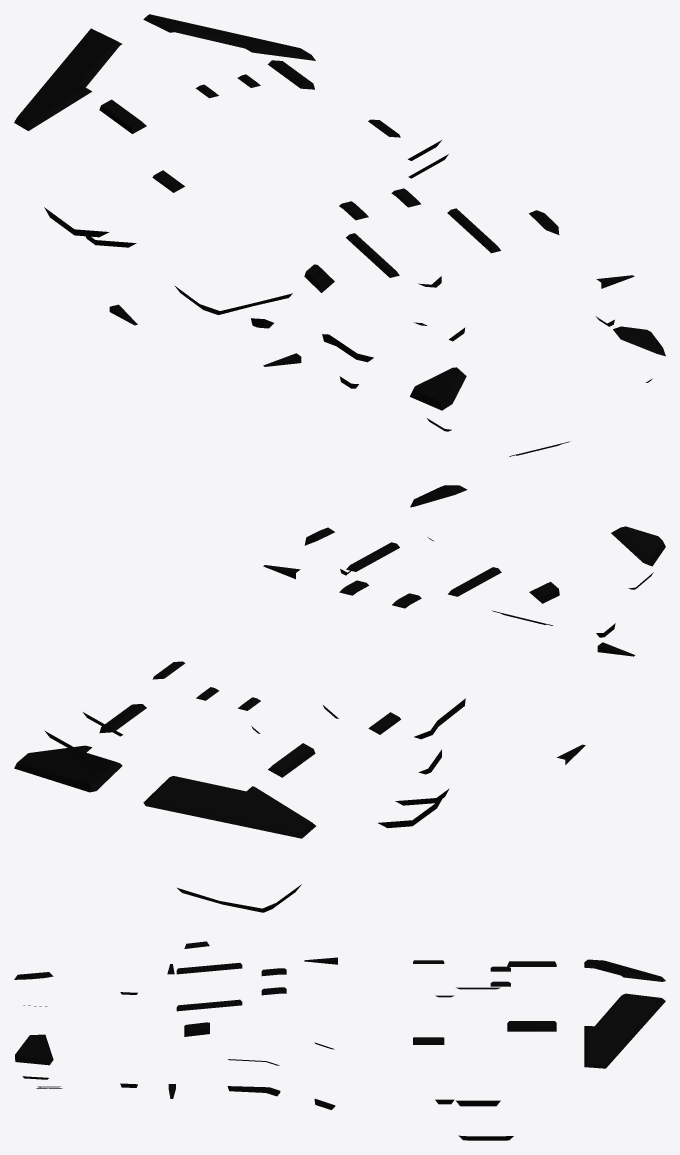
Rendered from hgn_cf_scou_01_t1.glb.
3 renders of one model, top to bottom at view 1: azimuth 30°, elevation 25°; view 2: azimuth 150°, elevation 25°; view 3: azimuth 270°, elevation 25°, orthographic. The views are drawn at different scales.
Parts seen in each view (by area): view 1: hgn_scout_frigate_01_t1_LOD0; view 2: hgn_scout_frigate_01_t1_LOD0; view 3: hgn_scout_frigate_01_t1_LOD0.
Boxes of the visible parts, x1,y1,x2,y2 form: hgn_scout_frigate_01_t1_LOD0: (14,14,665,456); hgn_scout_frigate_01_t1_LOD0: (14,485,665,912); hgn_scout_frigate_01_t1_LOD0: (14,941,665,1140).
Size of what is drawn, in the model's own units: 0.9939 by 0.4705 by 1.82.
1 material, 1 textured.
